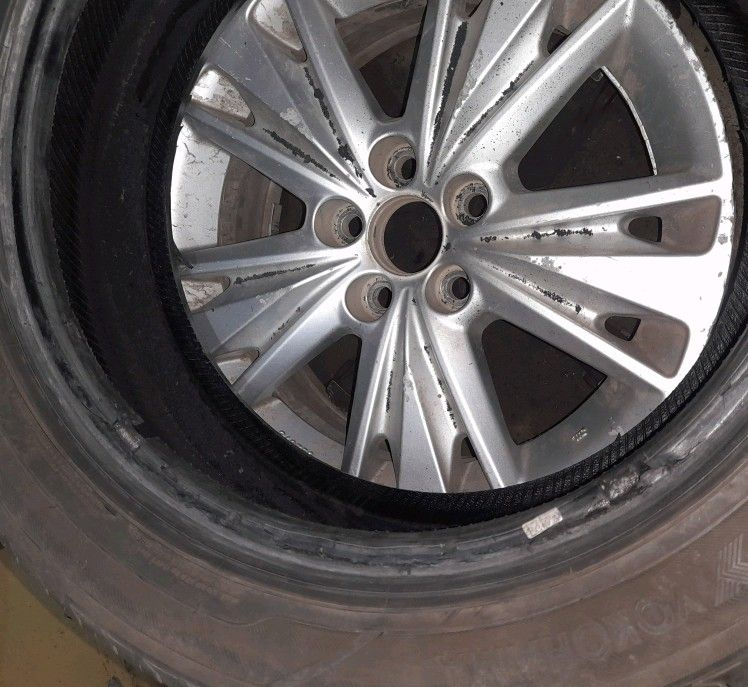bead_damage: (505, 352, 747, 558), (96, 409, 167, 460)
